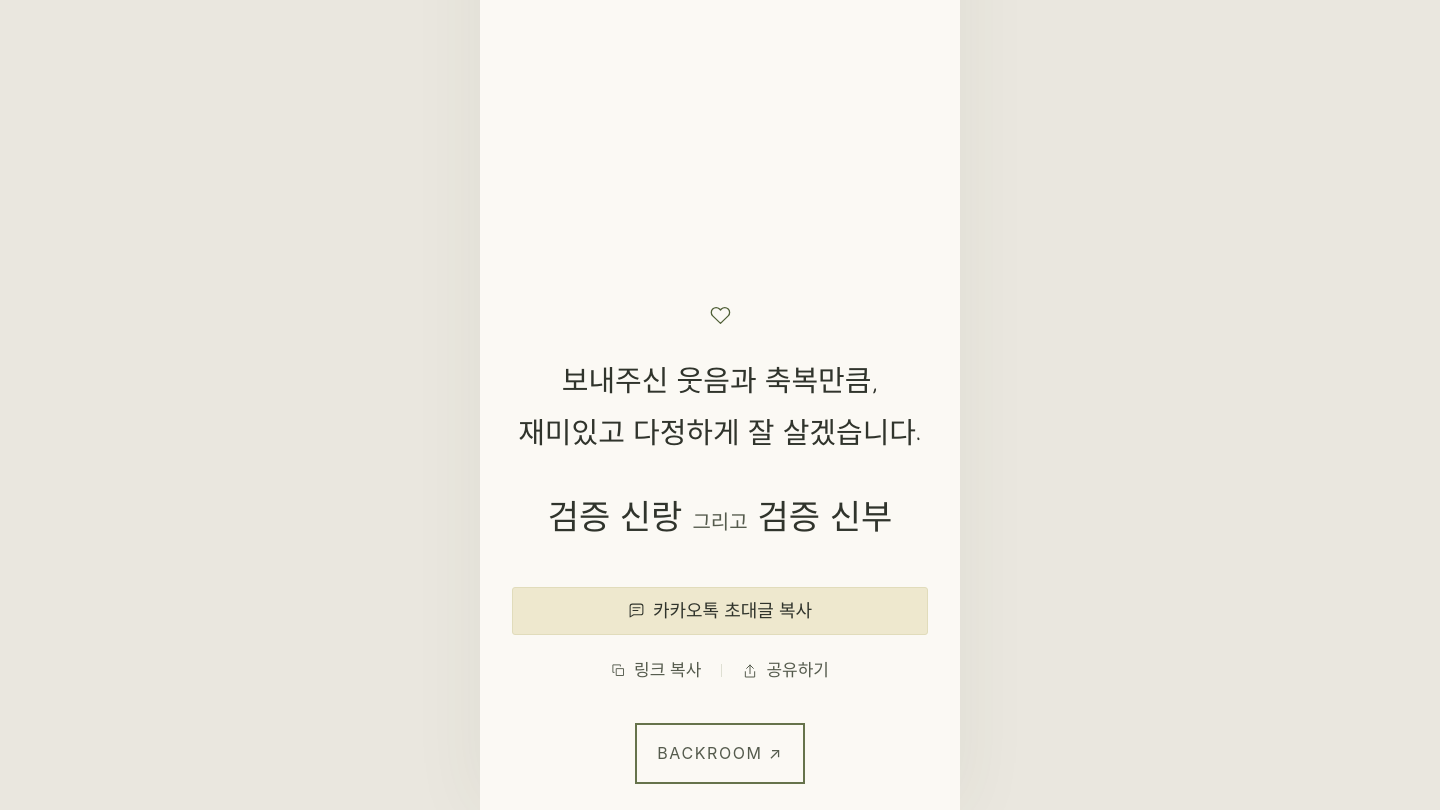
Test case: BACKROOM 코드 입력과 한 음원의 전환 › 기능 미설정에서는 입구가 없고 잘못된 코드는 화면이나 비트 재생을 시작하지 않는다
This screenshot has width=1440, height=810.
Click the button with aria-label "시크릿 코드 입력".
click(720, 753)  # box 641,729 -> 799,778
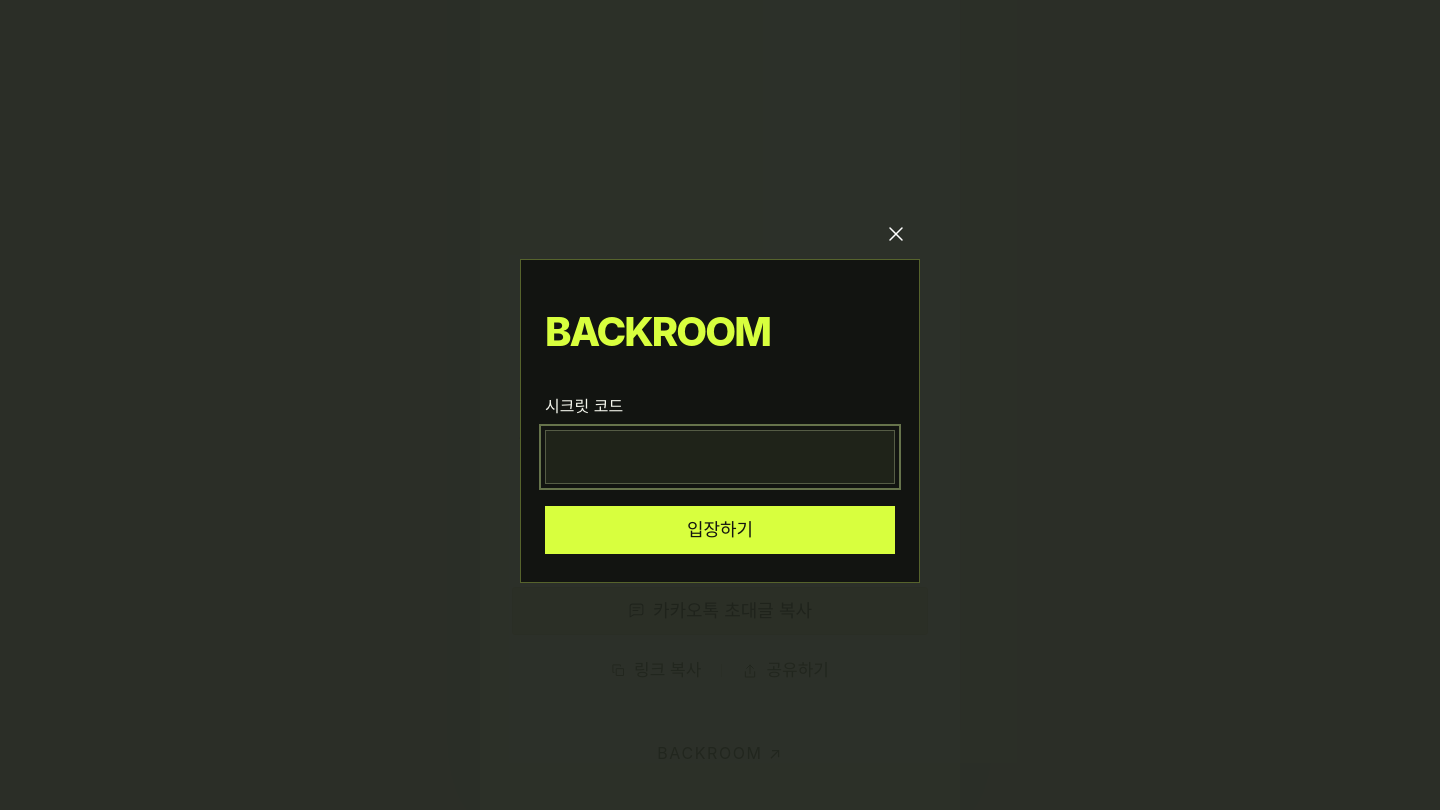
Type "incorrect-code" into the password field labelled "시크릿 코드".
click(720, 457); type("incorrect-code")  # box 545,430 -> 895,484
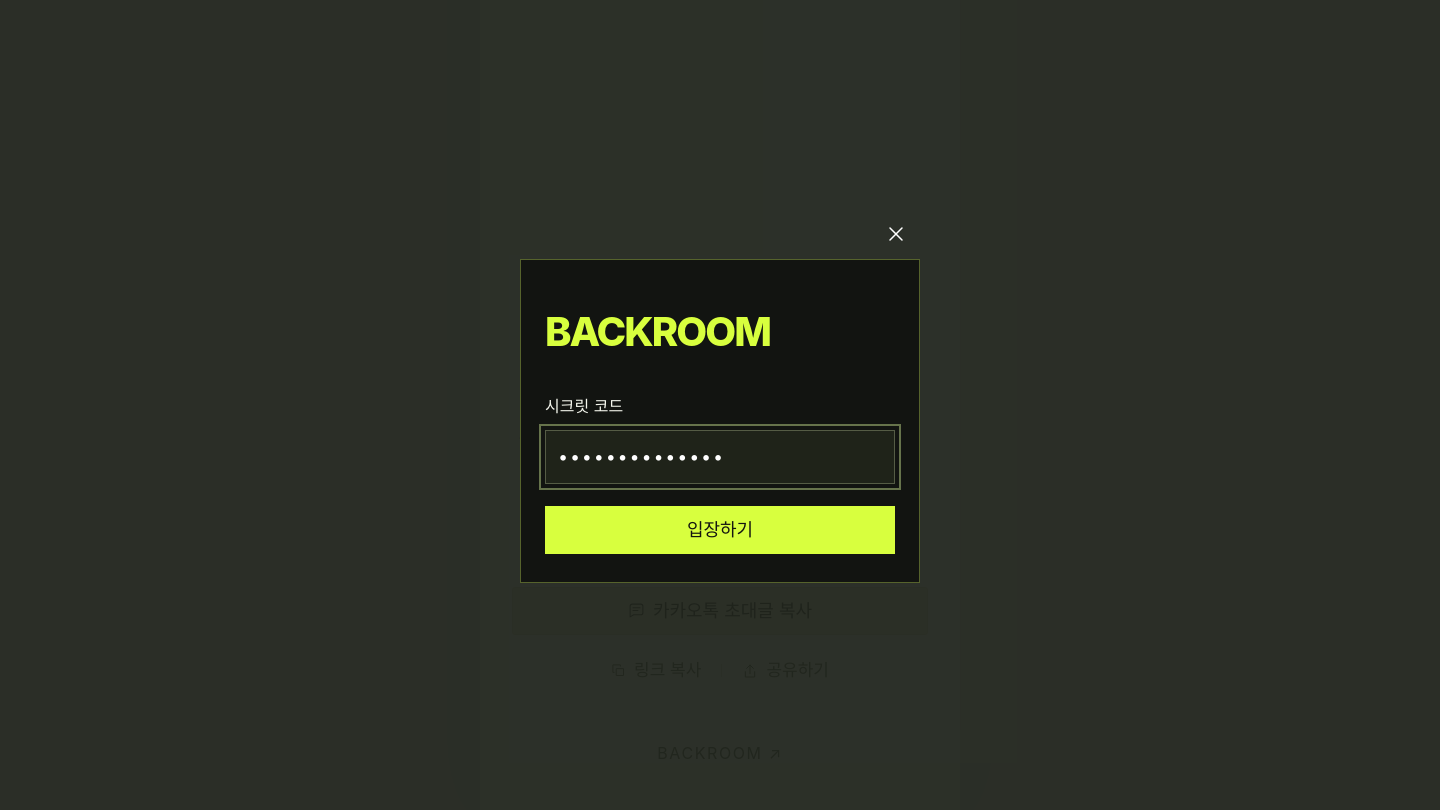
Click the button "입장하기".
click(720, 530)  # box 545,506 -> 895,554
(page scrolled)
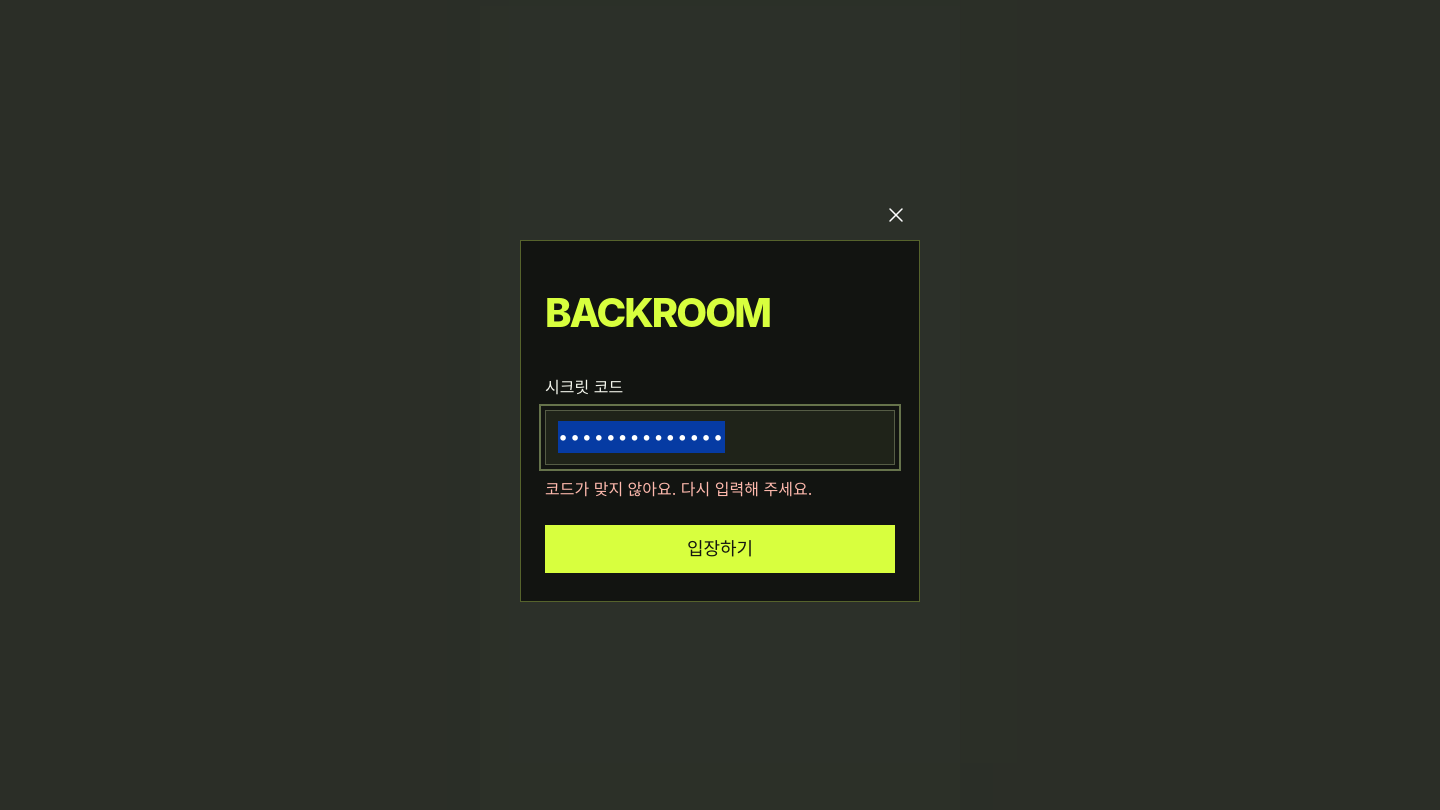
expect the message reads "코드가 맞지 않아요. 다시 입력해 주세요.": met, box 545,479 -> 812,499
